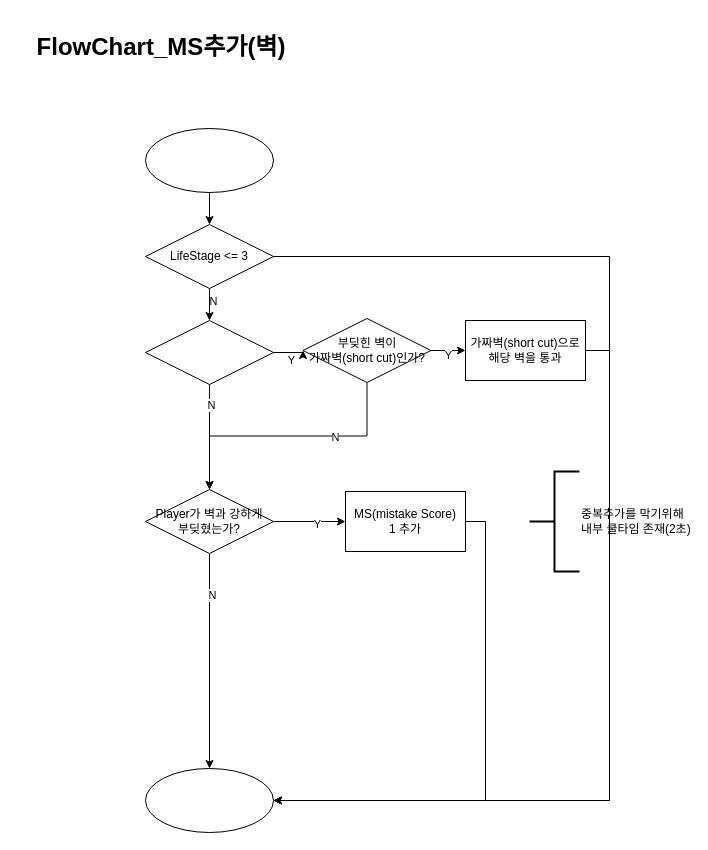
The diagram is 708 pixels wide and 850 high, and some of its shapes have lost their labels. The box of each missing label's shape, as (x1, y1, x2, y2) in pixels:
LifeStage = = 4: (144, 320, 274, 384)
Process 종료: (144, 768, 274, 832)
Process 호출: (144, 128, 274, 192)
